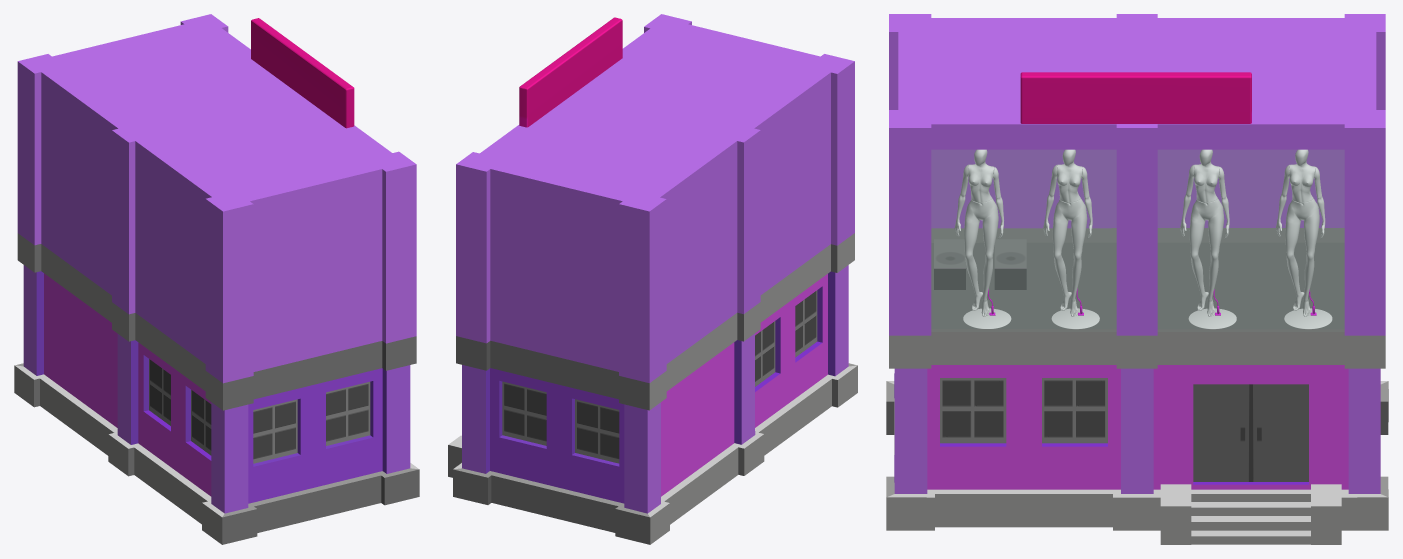
File: Botique.fbx
The picture shows the model from 3 angles, left to right: view 1: azimuth 30°, elevation 25°; view 2: azimuth 150°, elevation 25°; view 3: azimuth 270°, elevation 25°; orthographic projection. The views are drawn at different scales.
Visible parts, largest first — view 1: polySurface110; view 2: polySurface110; view 3: polySurface110, polySurface82, polySurface62, polySurface57, polySurface79.
Boxes of the visible parts, left/top/right/bottom form: polySurface110: left=14, top=14, right=419, bottom=544; polySurface110: left=448, top=14, right=857, bottom=544; polySurface110: left=886, top=14, right=1388, bottom=544; polySurface82: left=1043, top=149, right=1099, bottom=329; polySurface62: left=1180, top=149, right=1236, bottom=329; polySurface57: left=1276, top=149, right=1332, bottom=329; polySurface79: left=954, top=149, right=1011, bottom=328.
Size of the model in its own units: 10.18 by 16.3 by 16.54.
